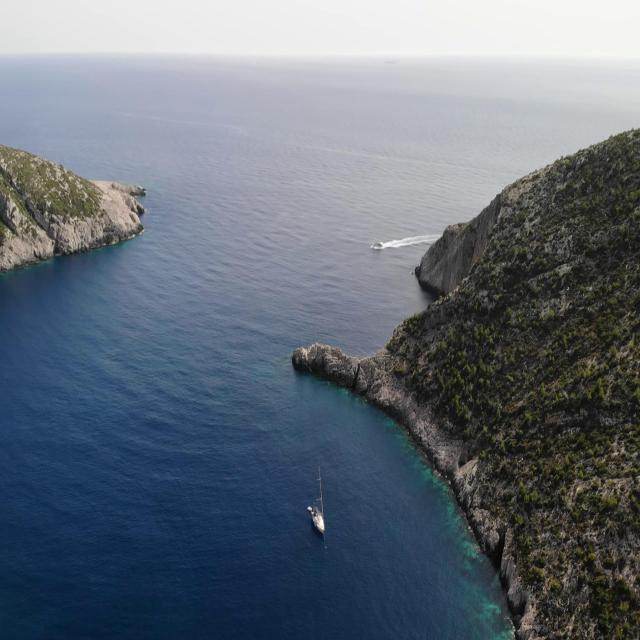sailboat: (308, 462, 326, 532)
